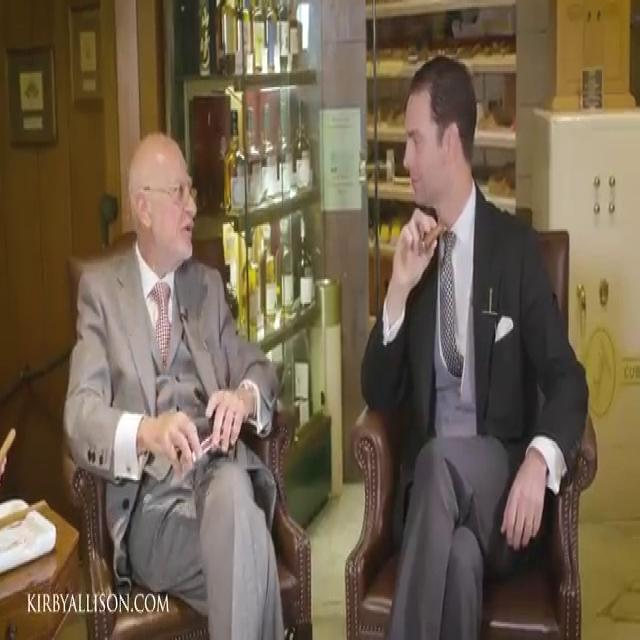Smooking: (421, 212, 449, 256)
